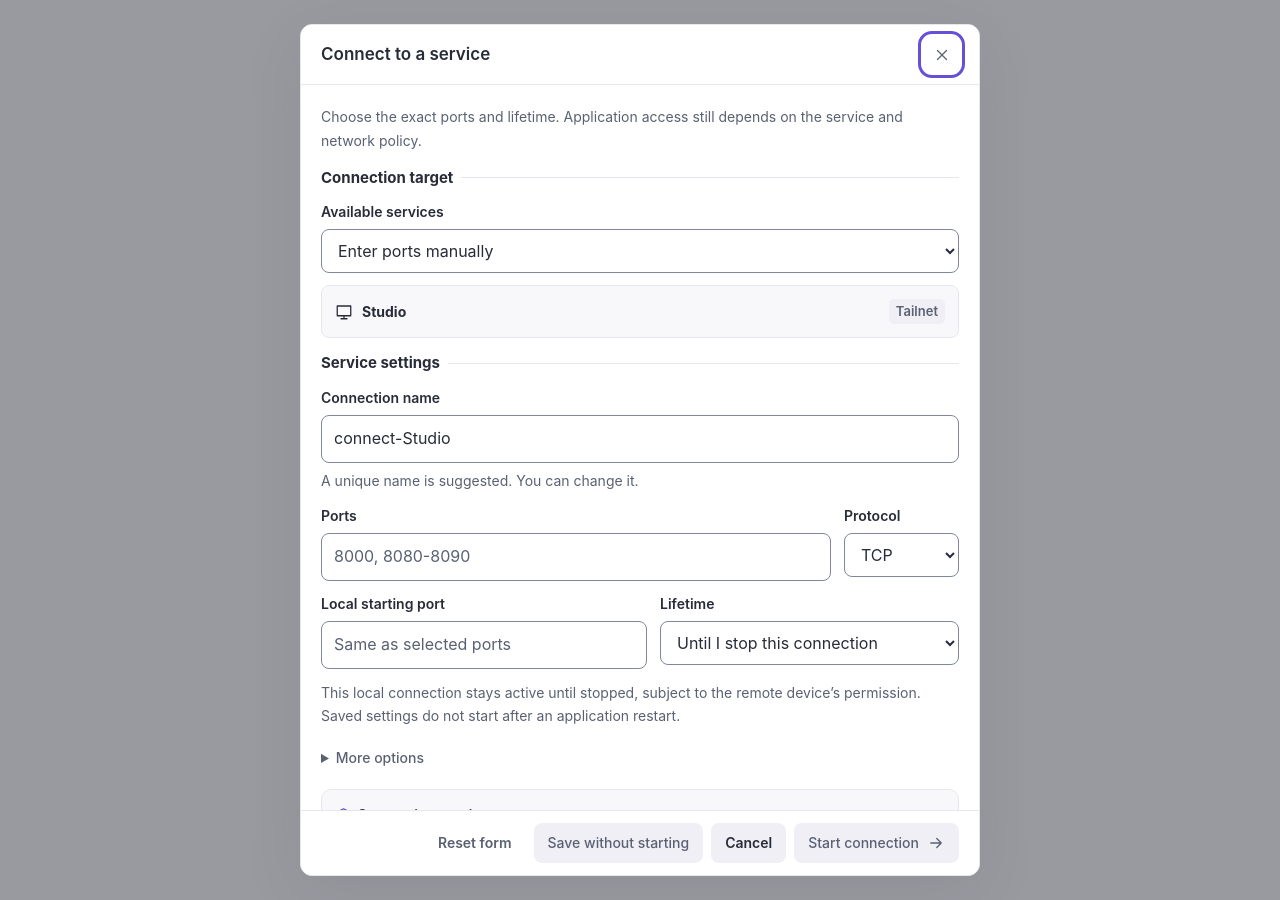
Test: advertised grant review binding › never connects when targeted refresh changes purpose
The width and height of the screenshot is (1280, 900).
Select "TCP 8080 · TCP 8080" in the dropdown labelled "Available services": (640, 252) [321,230,959,274]
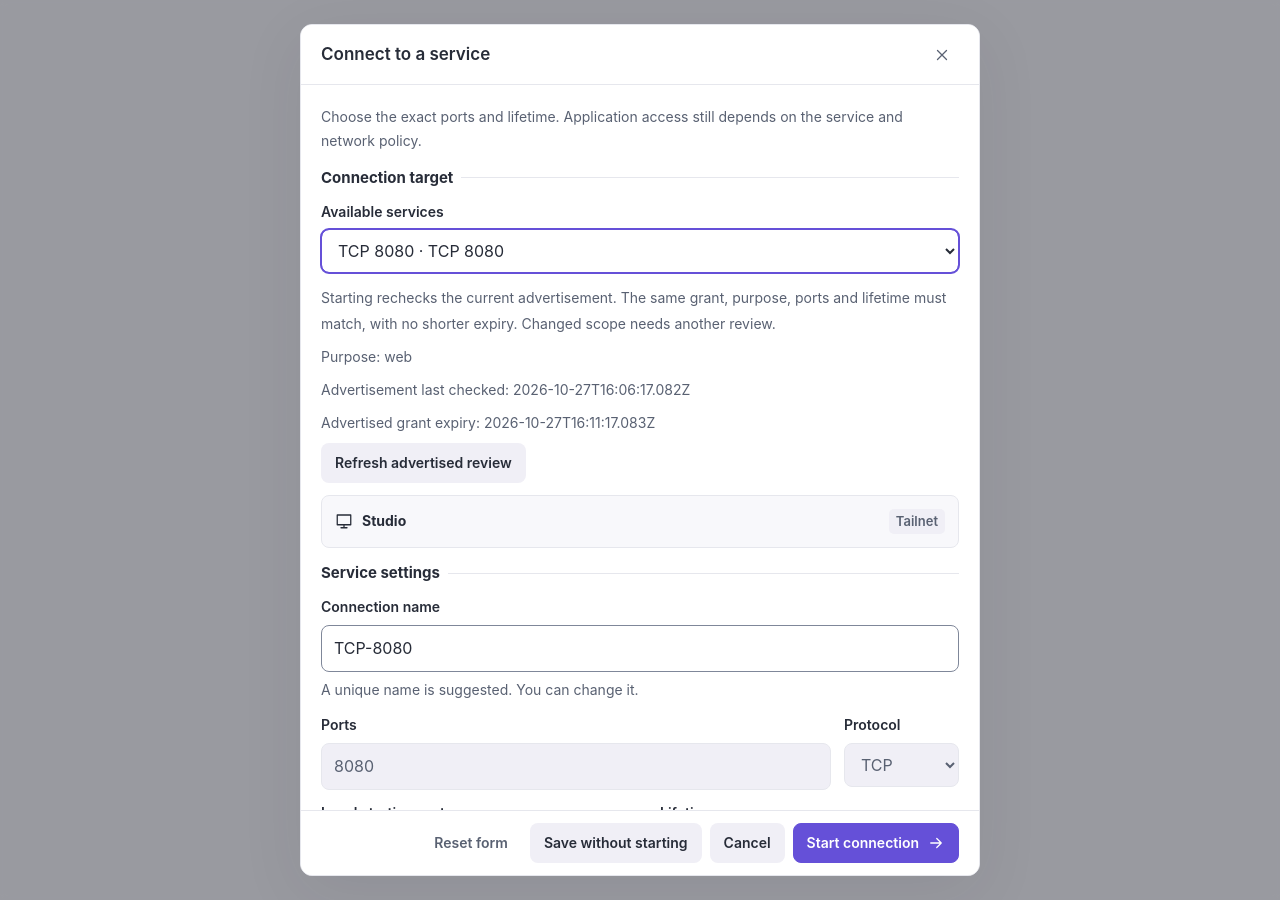
Click the button "Start connection": (876, 843) [793,823,959,863]
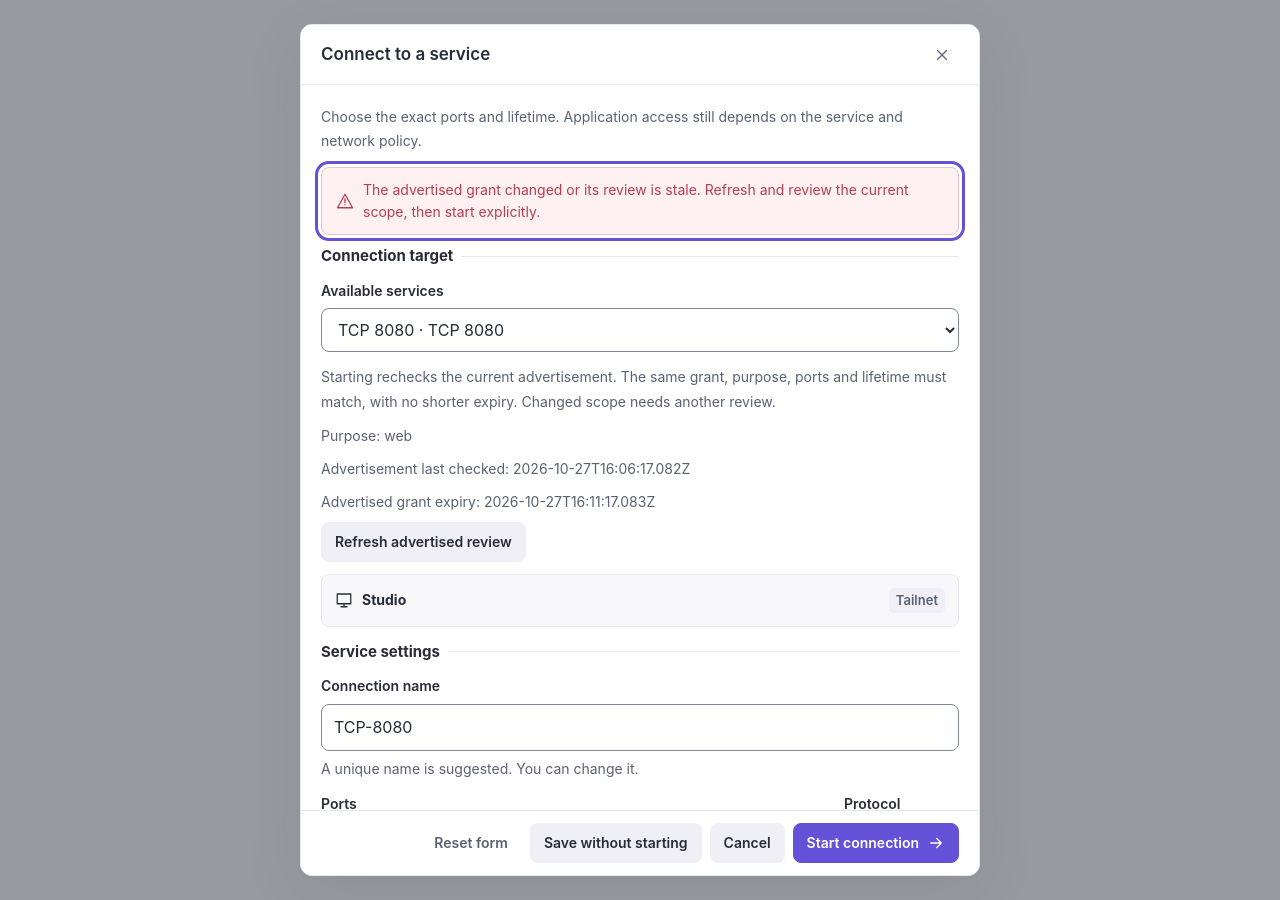
Expected: the message shows "The advertised grant changed", [363,181,909,220]
